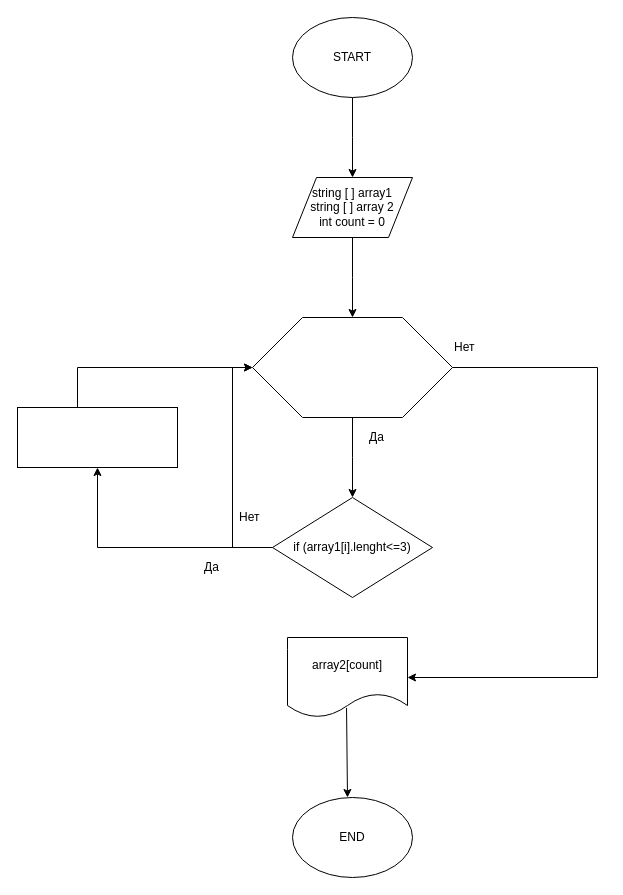
The diagram is 623 pixels wide and 895 high, and some of its shapes have lost their labels. Here are the shapes that lost their labels. From the top down, the centre of each, then its label:
At pixel 352 367: "for (int i = 0; i < array.lenght; i++)".
At pixel 97 437: "array2 [count] = array1[i] count++".
